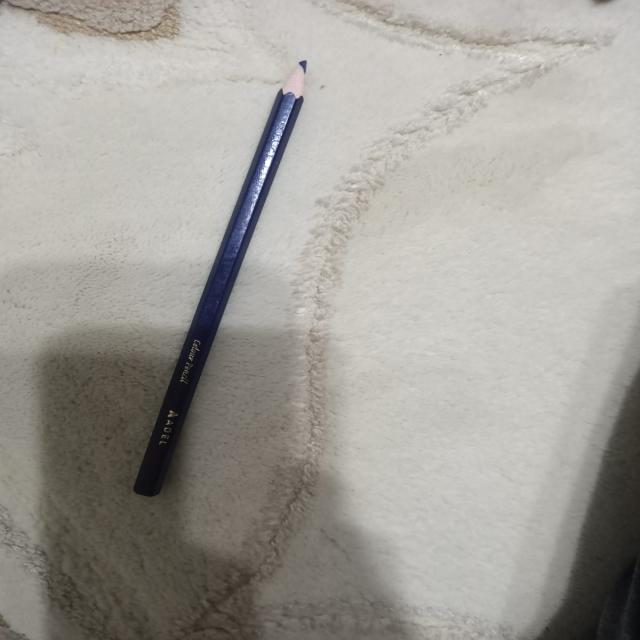pencil: (133, 61, 306, 496)
